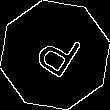P_SW: (26, 24, 84, 86)
